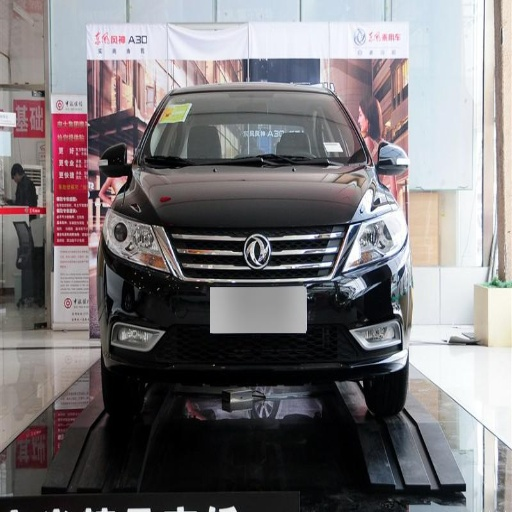front_bumper: (104, 201, 408, 418)
front_right_light: (107, 205, 165, 267)
hood: (125, 166, 387, 223)
